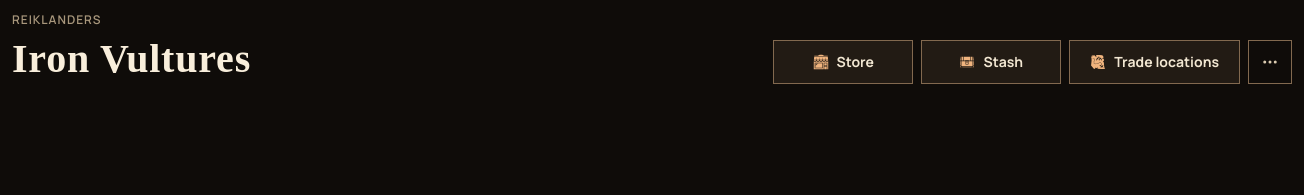
Test: WarbandHeader's Encampment › opens the campaign's Encampment page from the ⋯ menu
What coordinates should you click on to do the following:
click the button named "More warband actions"
I would click on:
 (1270, 62)
Its box is 1248,40 -> 1292,84.
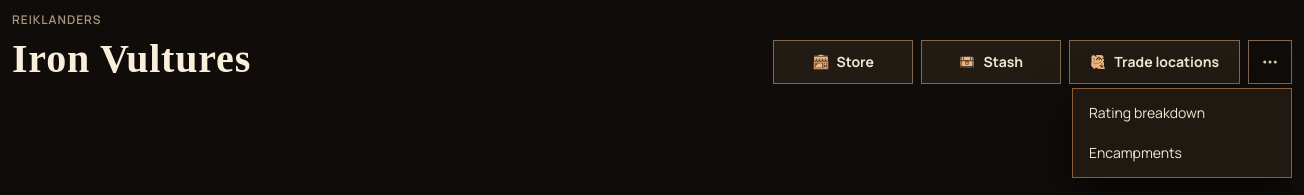
What coordinates should you click on to do the following:
click the menu item "Encampments"
I would click on:
 (1136, 152)
Its box is 1089,143 -> 1182,162.
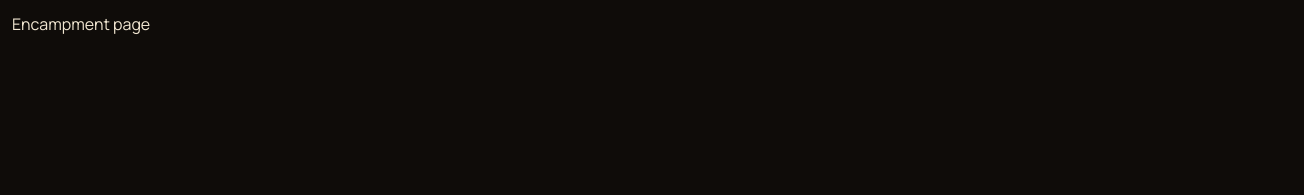
Result: the text "Encampment page" is shown at 12,13 -> 150,35
